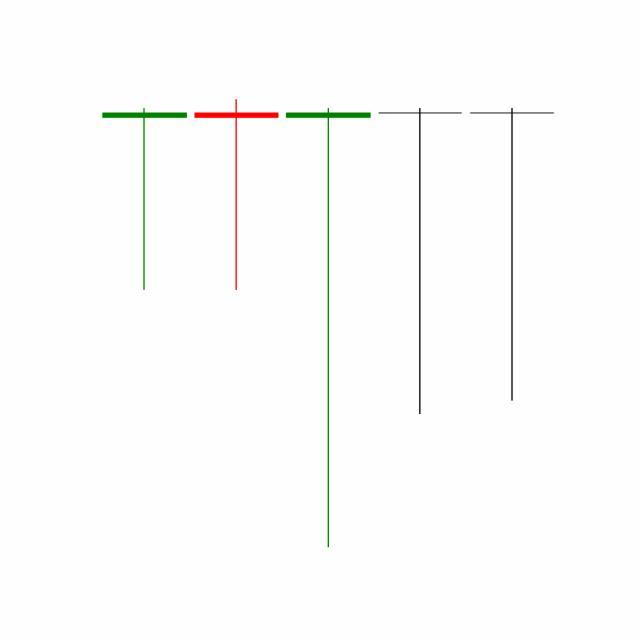Dragonfly Doji: (374, 105, 468, 419)
